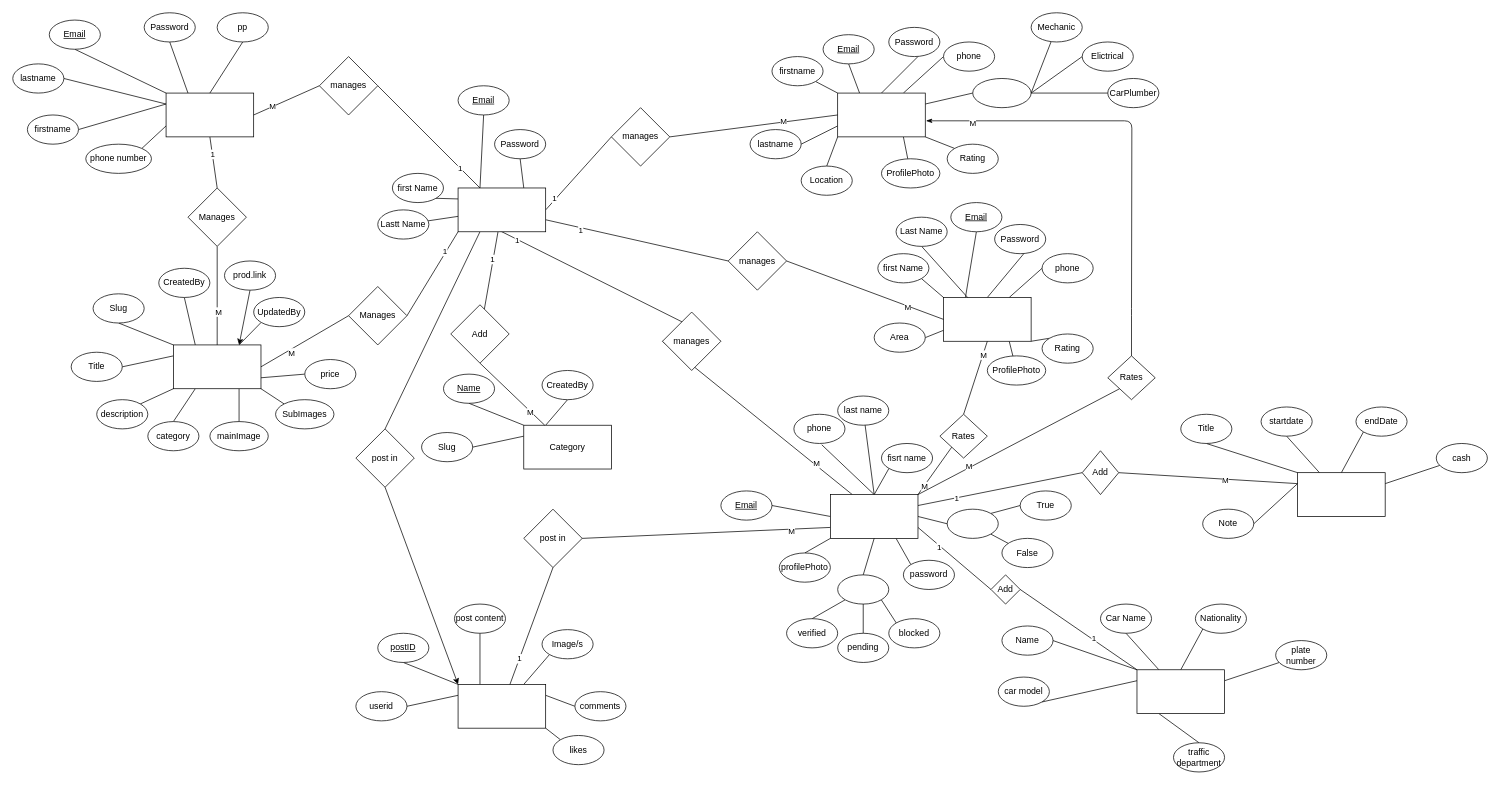
Some shapes in this 1500 by 785 pixel diagram are drawn without their labels. Here are the shapes that lost their labels. From the top down, the centre of each, then its label:
At [1001,93]: "Specialization".
At [209,114]: "Seller".
At [881,114]: "Worker".
At [501,209]: "Admin".
At [987,319]: "Tow Truck".
At [217,366]: "Products".
At [1341,494]: "reminder".
At [874,516]: "User".
At [972,523]: "isActive".
At [863,589]: "status".
At [501,706]: "community".
At [1180,691]: "Car".
